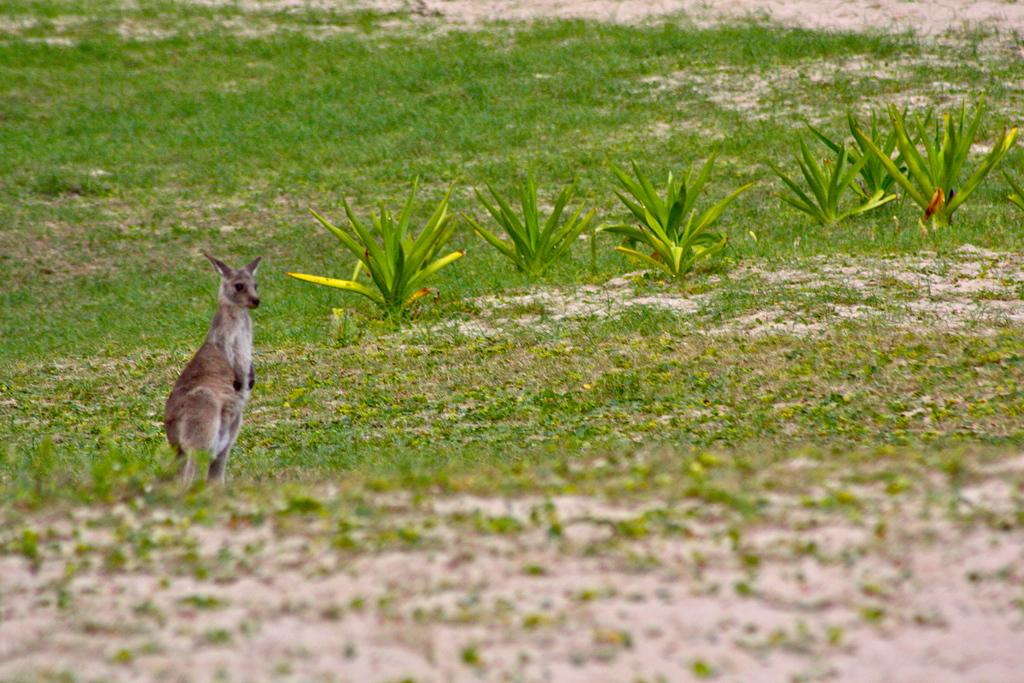kangaroo: (160, 252, 264, 492)
